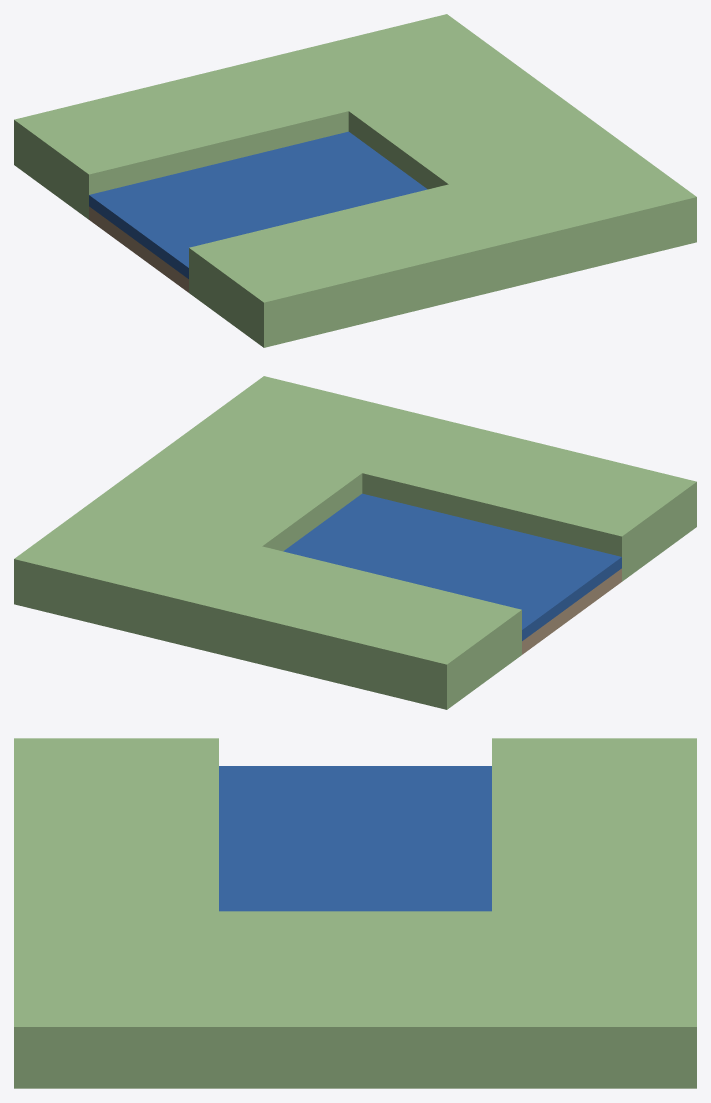
Rendered from river_end.glb.
3 views of the same model, one above another, from view 1: azimuth 30°, elevation 25°; view 2: azimuth 150°, elevation 25°; view 3: azimuth 270°, elevation 25° (orthographic). The views are drawn at different scales.
Visible parts, largest first — view 1: river_end_grass_left, river_end_grass_right, river_end_water, river_end_grass_end, river_end_bed; view 2: river_end_grass_right, river_end_grass_left, river_end_water, river_end_grass_end, river_end_bed; view 3: river_end_grass_left, river_end_grass_right, river_end_grass_end, river_end_water.
Part boxes in pixels (bbox=[...]): river_end_grass_left: bbox=[189, 142, 696, 347]; river_end_grass_right: bbox=[14, 14, 521, 219]; river_end_water: bbox=[89, 131, 427, 278]; river_end_grass_end: bbox=[348, 69, 621, 189]; river_end_bed: bbox=[89, 206, 188, 292]; river_end_grass_right: bbox=[14, 504, 521, 709]; river_end_grass_left: bbox=[189, 376, 696, 581]; river_end_water: bbox=[283, 493, 621, 640]; river_end_grass_end: bbox=[89, 431, 362, 551]; river_end_bed: bbox=[522, 568, 621, 654]; river_end_grass_left: bbox=[14, 738, 218, 1088]; river_end_grass_right: bbox=[492, 738, 696, 1088]; river_end_grass_end: bbox=[219, 911, 491, 1088]; river_end_water: bbox=[219, 766, 491, 911].
Bounding box in the file's own units: 2 × 0.2 × 2.
